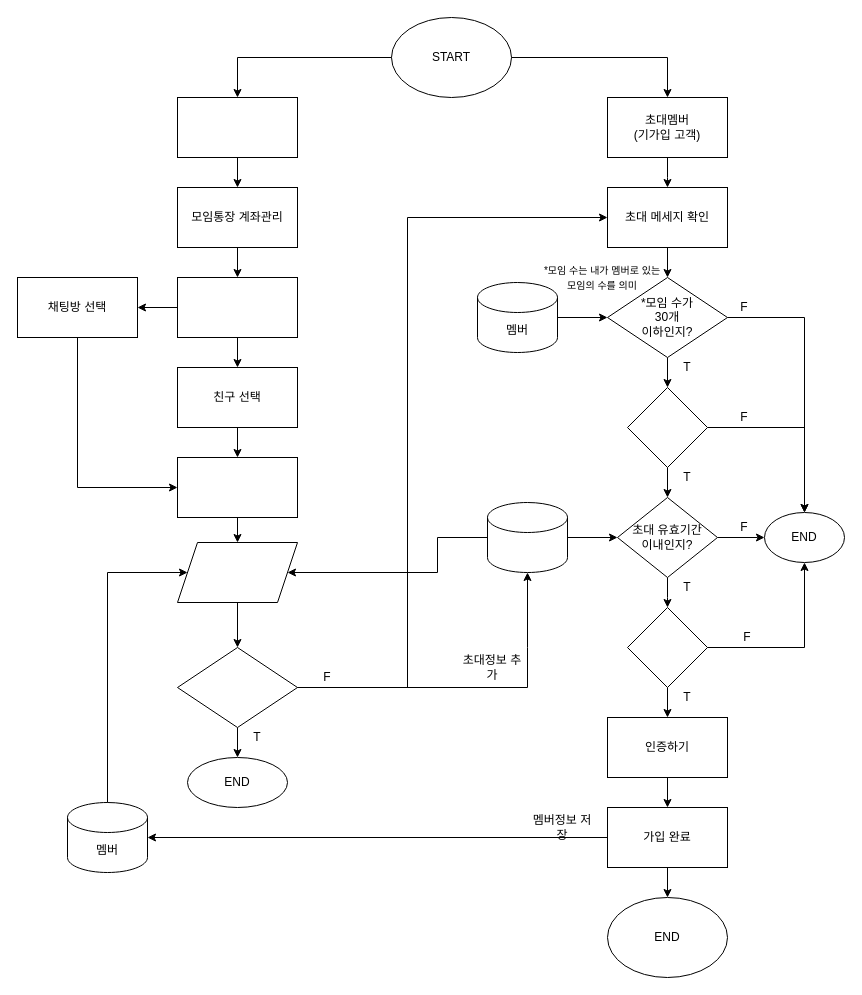
Image size: 862x995. Some labels were removed from this diagram. The shapes that lost their labels are listed below. From the top down, each one's box as (x1, y1, x2, y2) in pixels, then its label:
(176, 96, 298, 158): 모임주
(176, 276, 298, 338): 친구 초대
(626, 386, 708, 468): 초대 수락
(176, 456, 298, 518): 초대하기
(486, 502, 568, 572): 초대
(176, 542, 298, 602): *sum(응답하지 않은 초대멤버, 모임통장 멤버)
(626, 606, 708, 688): 약관동의
(176, 646, 298, 728): *멤버 수가 100명을 초과 하는지?
